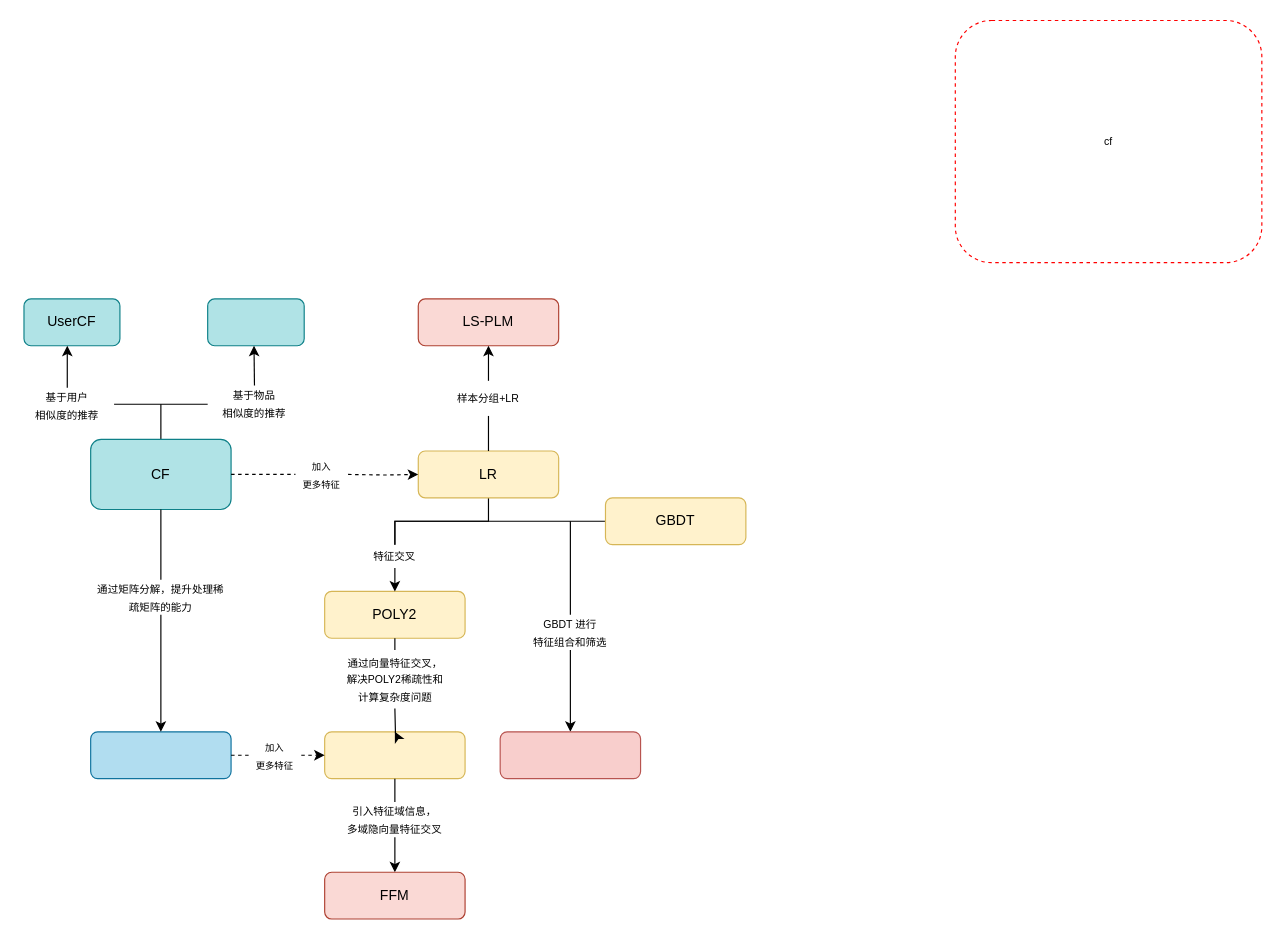
Some shapes in this 1282 by 940 pixel diagram are drawn without their labels. The shapes that lost their labels are listed below. From the top down, each one's centre as x and y in pixels, then its label:
At (x=255, y=322): "ItemCF".
At (x=160, y=755): "MF".
At (x=394, y=755): "FM".
At (x=570, y=755): "GBDT + LR".
